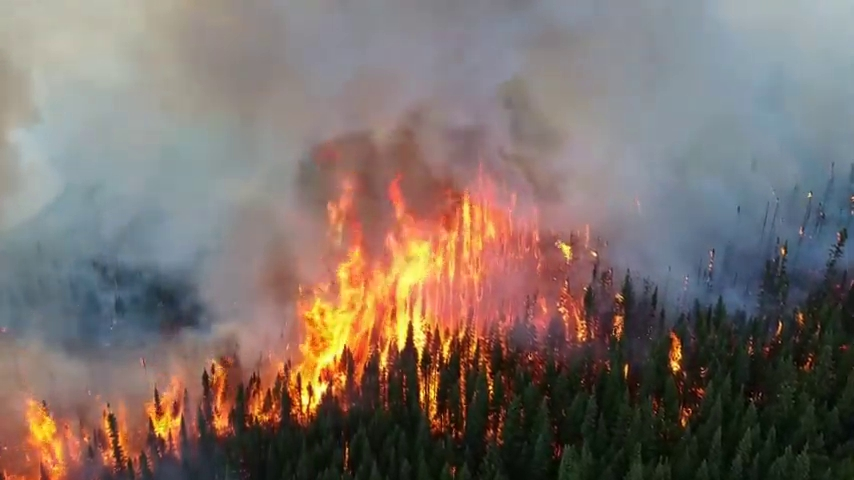forest_fire: (0, 144, 600, 479), (418, 378, 437, 414), (670, 339, 679, 371), (386, 141, 410, 153), (611, 314, 622, 336), (439, 335, 451, 350), (616, 365, 626, 374), (270, 351, 274, 356), (616, 302, 617, 303)
